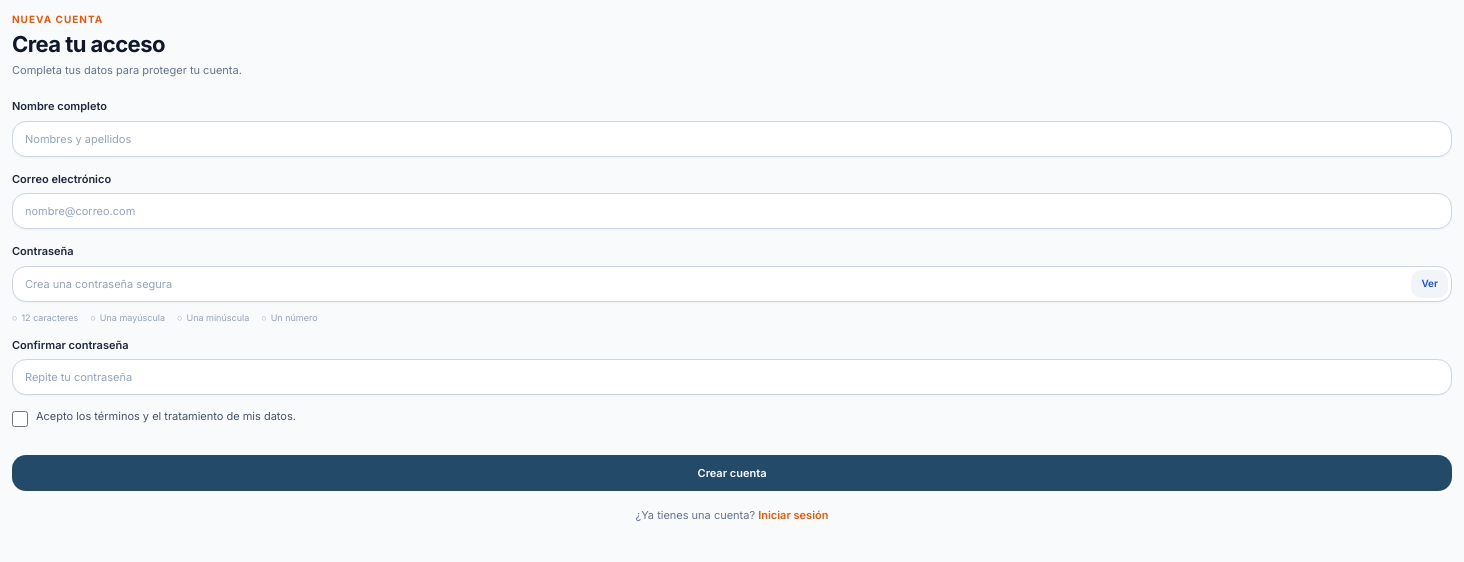
Test: RegisterPage › valida que ambas contraseñas coincidan
Type "Usuario Prueba" into the field labelled "Nombre completo".
click(732, 139); type("Usuario Prueba")  # box 12,121 -> 1452,157
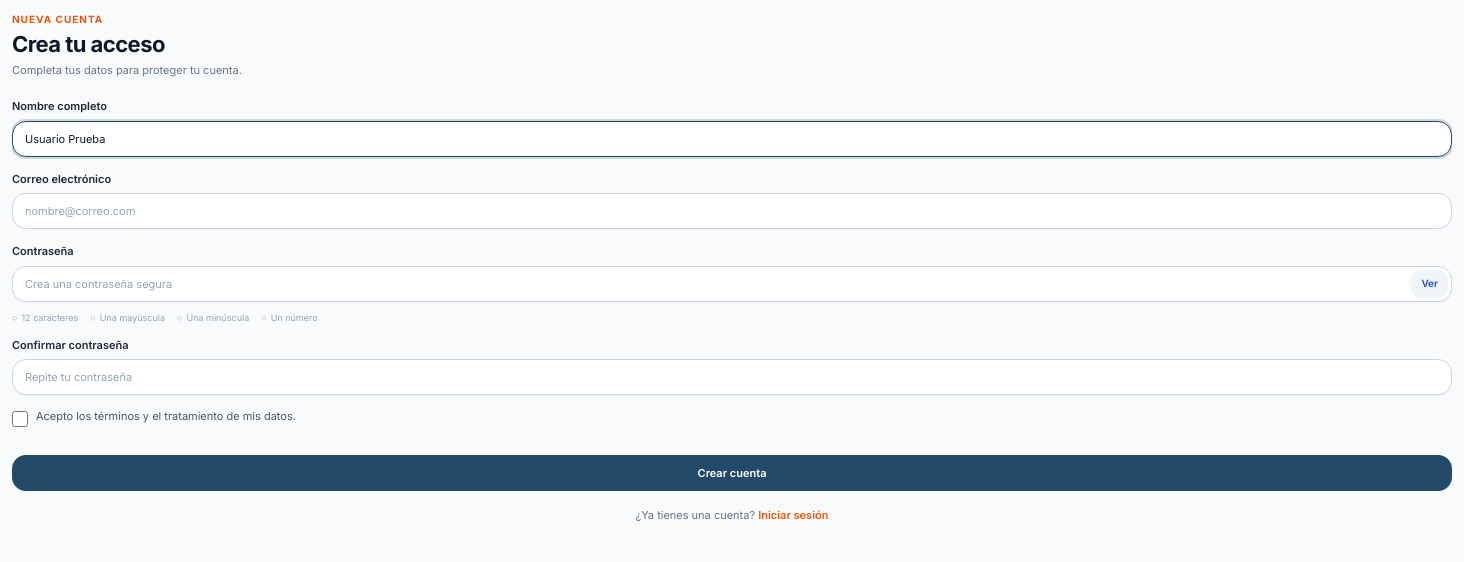
Type "usuario@example.com" into the field labelled "Correo electrónico".
click(732, 211); type("usuario@example.com")  # box 12,193 -> 1452,229
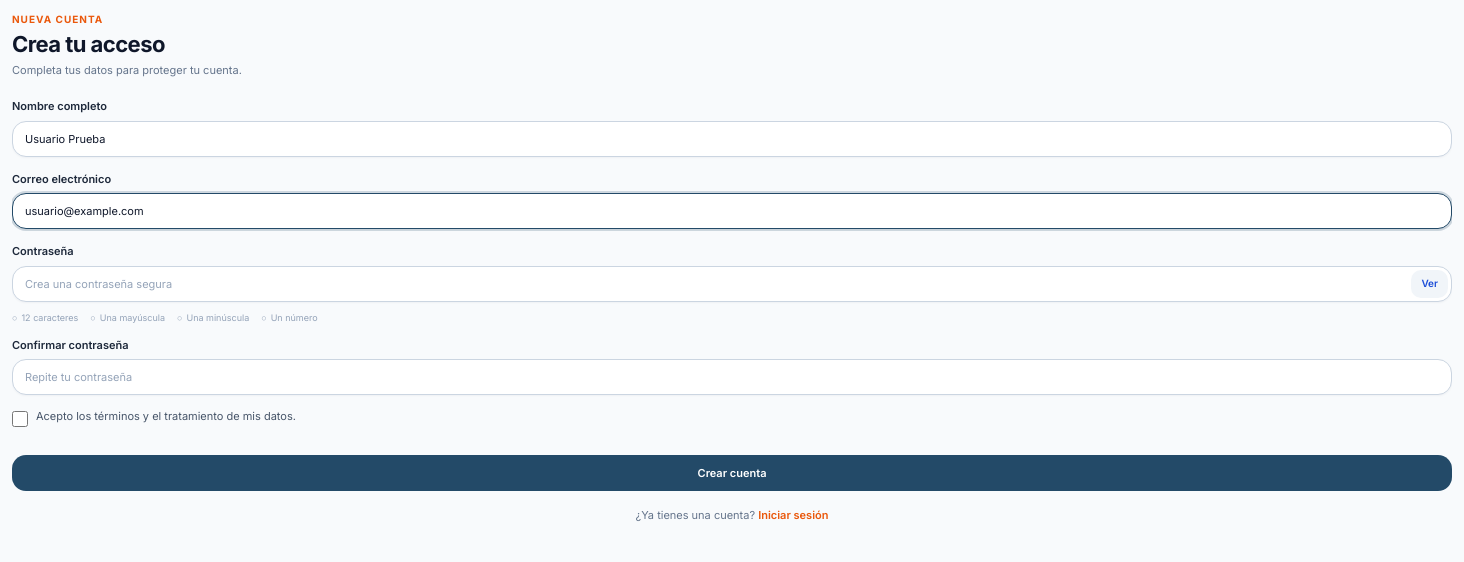
Type "ClaveSegura2026" into the password field labelled "Contraseña".
click(732, 284); type("ClaveSegura2026")  # box 12,266 -> 1452,302
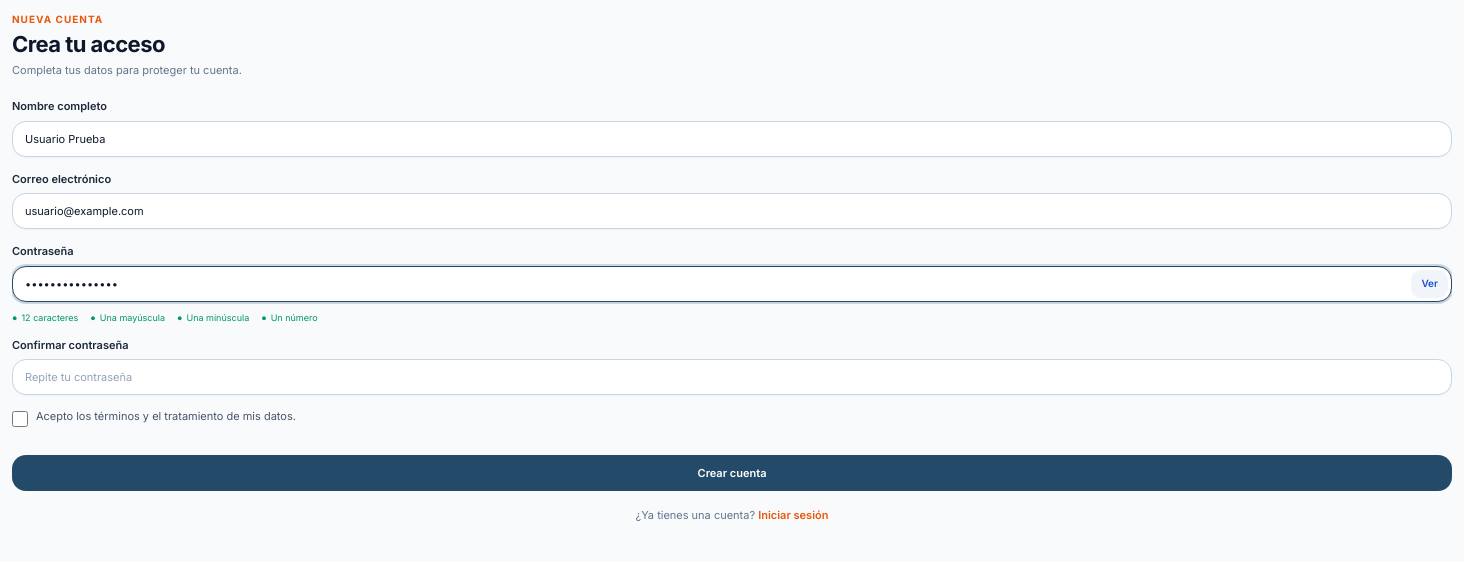
Type "OtraClave2026" into the password field labelled "Confirmar contraseña".
click(732, 378); type("OtraClave2026")  # box 12,360 -> 1452,396
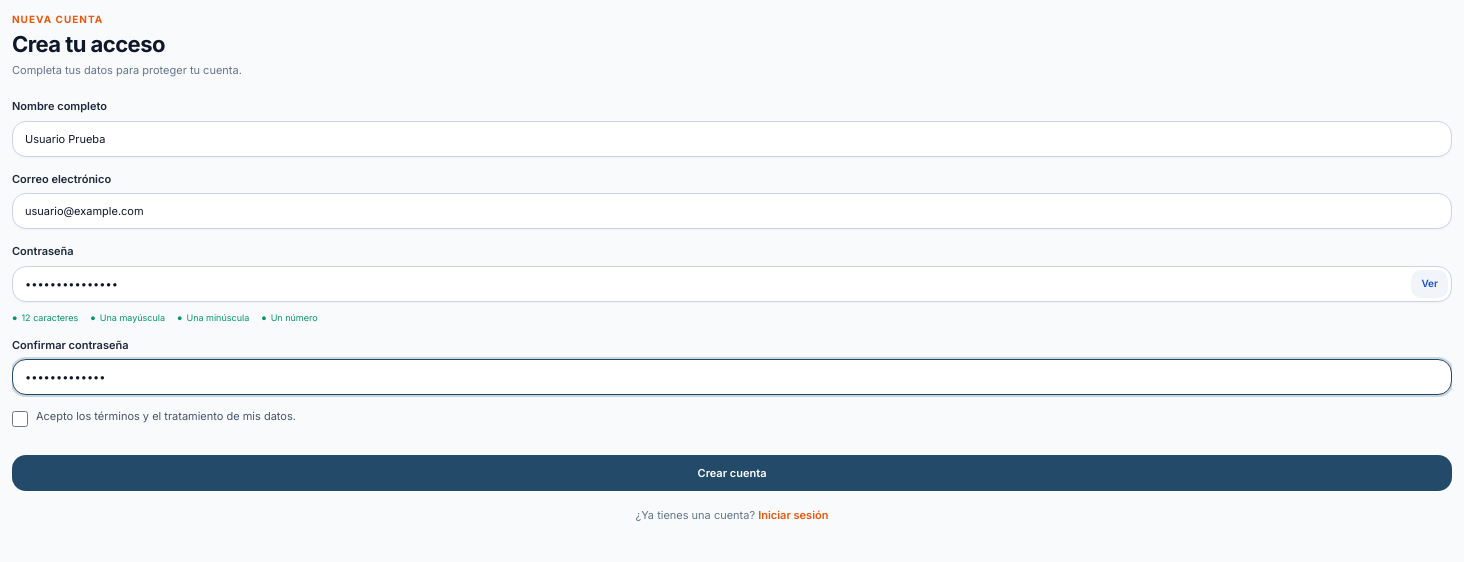
Click the checkbox labelled "Acepto los términos y el tratamiento de mis datos.".
click(20, 420)  # box 12,412 -> 28,428
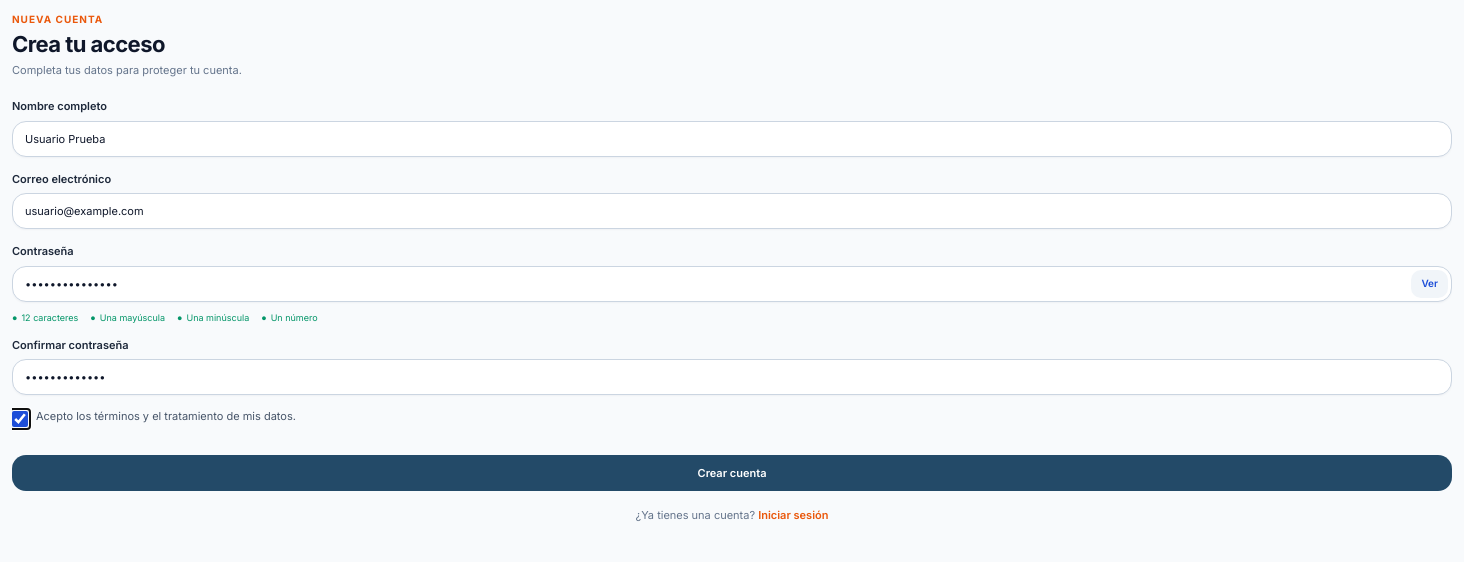
Click the button "Crear cuenta".
click(732, 474)  # box 12,456 -> 1452,492
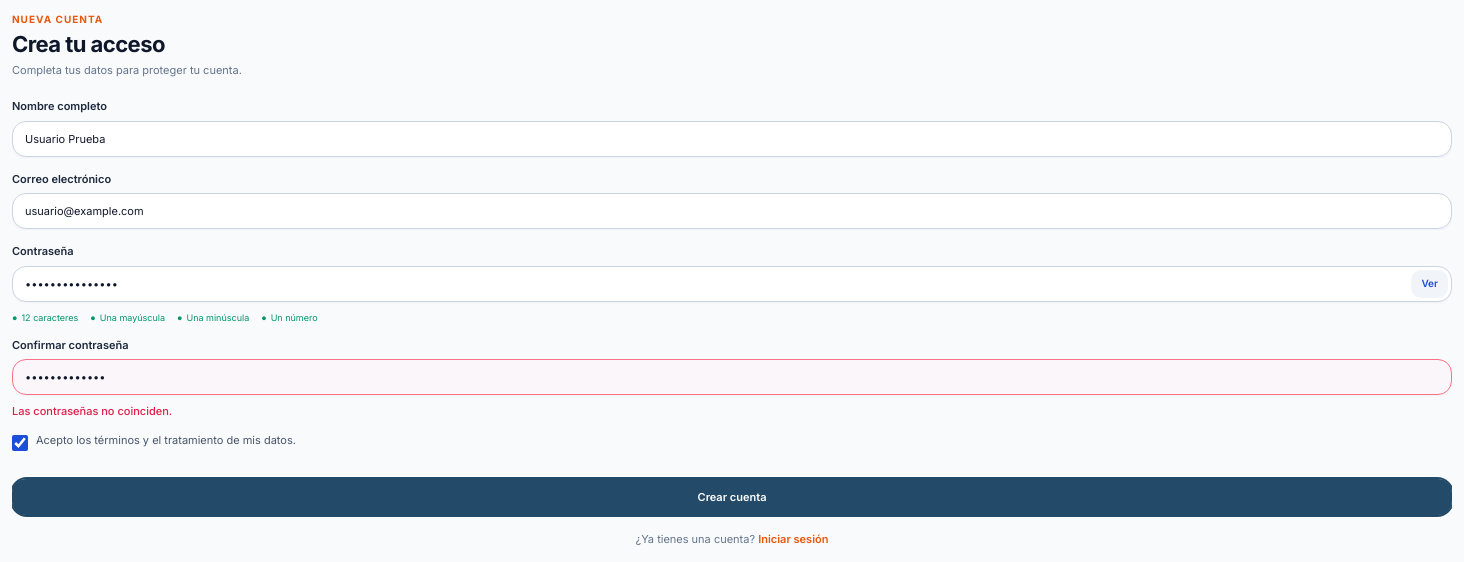
Check: the text "Las contraseñas no coinciden." is shown, box 12,404 -> 172,418
